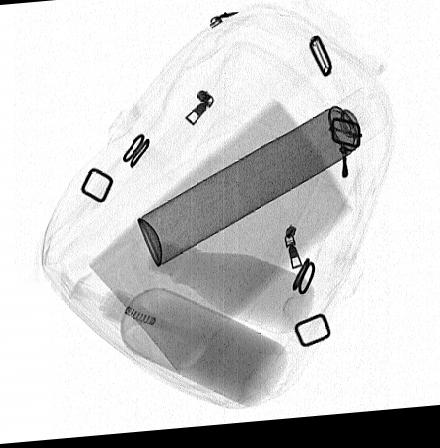Sprayer: (137, 92, 388, 271)
